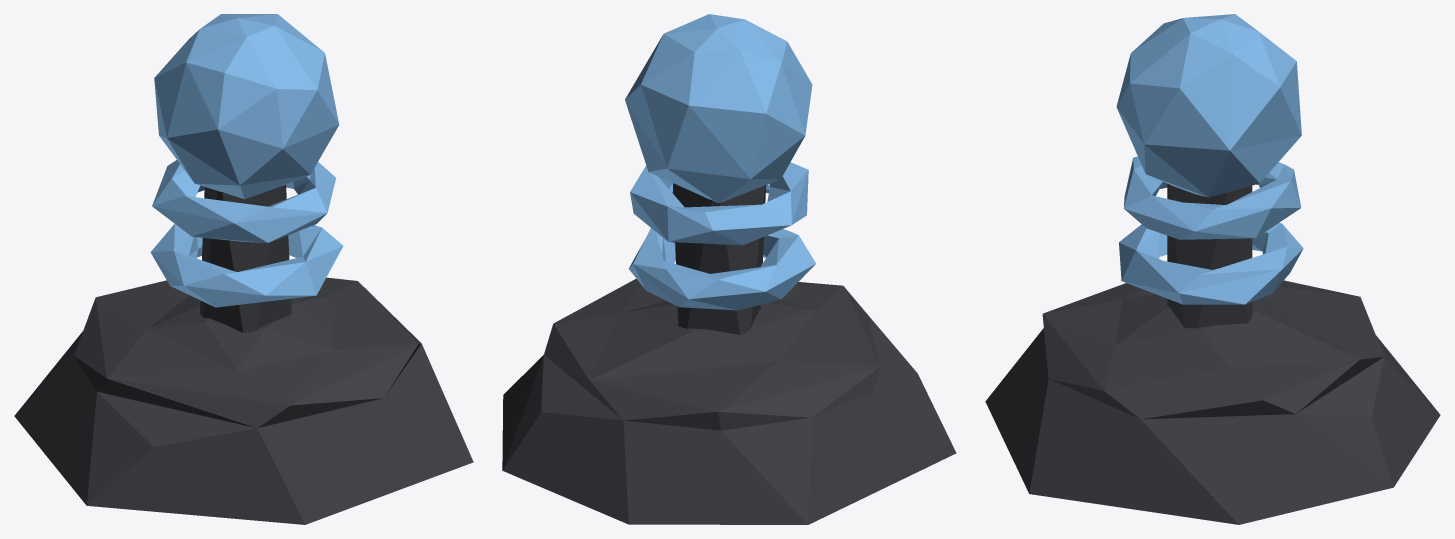
The model's file is TeslaLvl1.glb.
3 renders of one model, left to right at view 1: azimuth 30°, elevation 25°; view 2: azimuth 150°, elevation 25°; view 3: azimuth 270°, elevation 25°, orthographic.
Visible parts, largest first — view 1: Cube; view 2: Cube; view 3: Cube.
Boxes of the visible parts, bbox=[...] form: Cube: bbox=[14, 14, 473, 524]; Cube: bbox=[502, 14, 956, 524]; Cube: bbox=[985, 14, 1440, 524].
Bounding box in the file's own units: 10.6 × 10.38 × 10.54.
